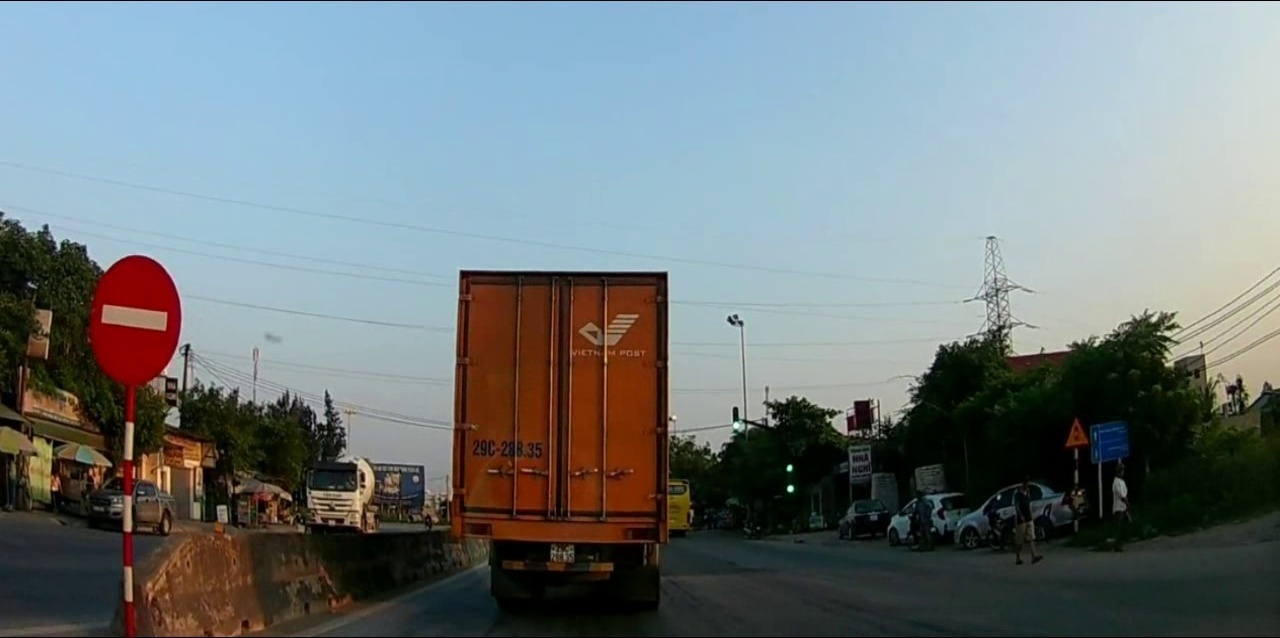Bien khac: (1064, 418, 1089, 448)
Cam di nguoc chieu: (86, 254, 182, 385)
